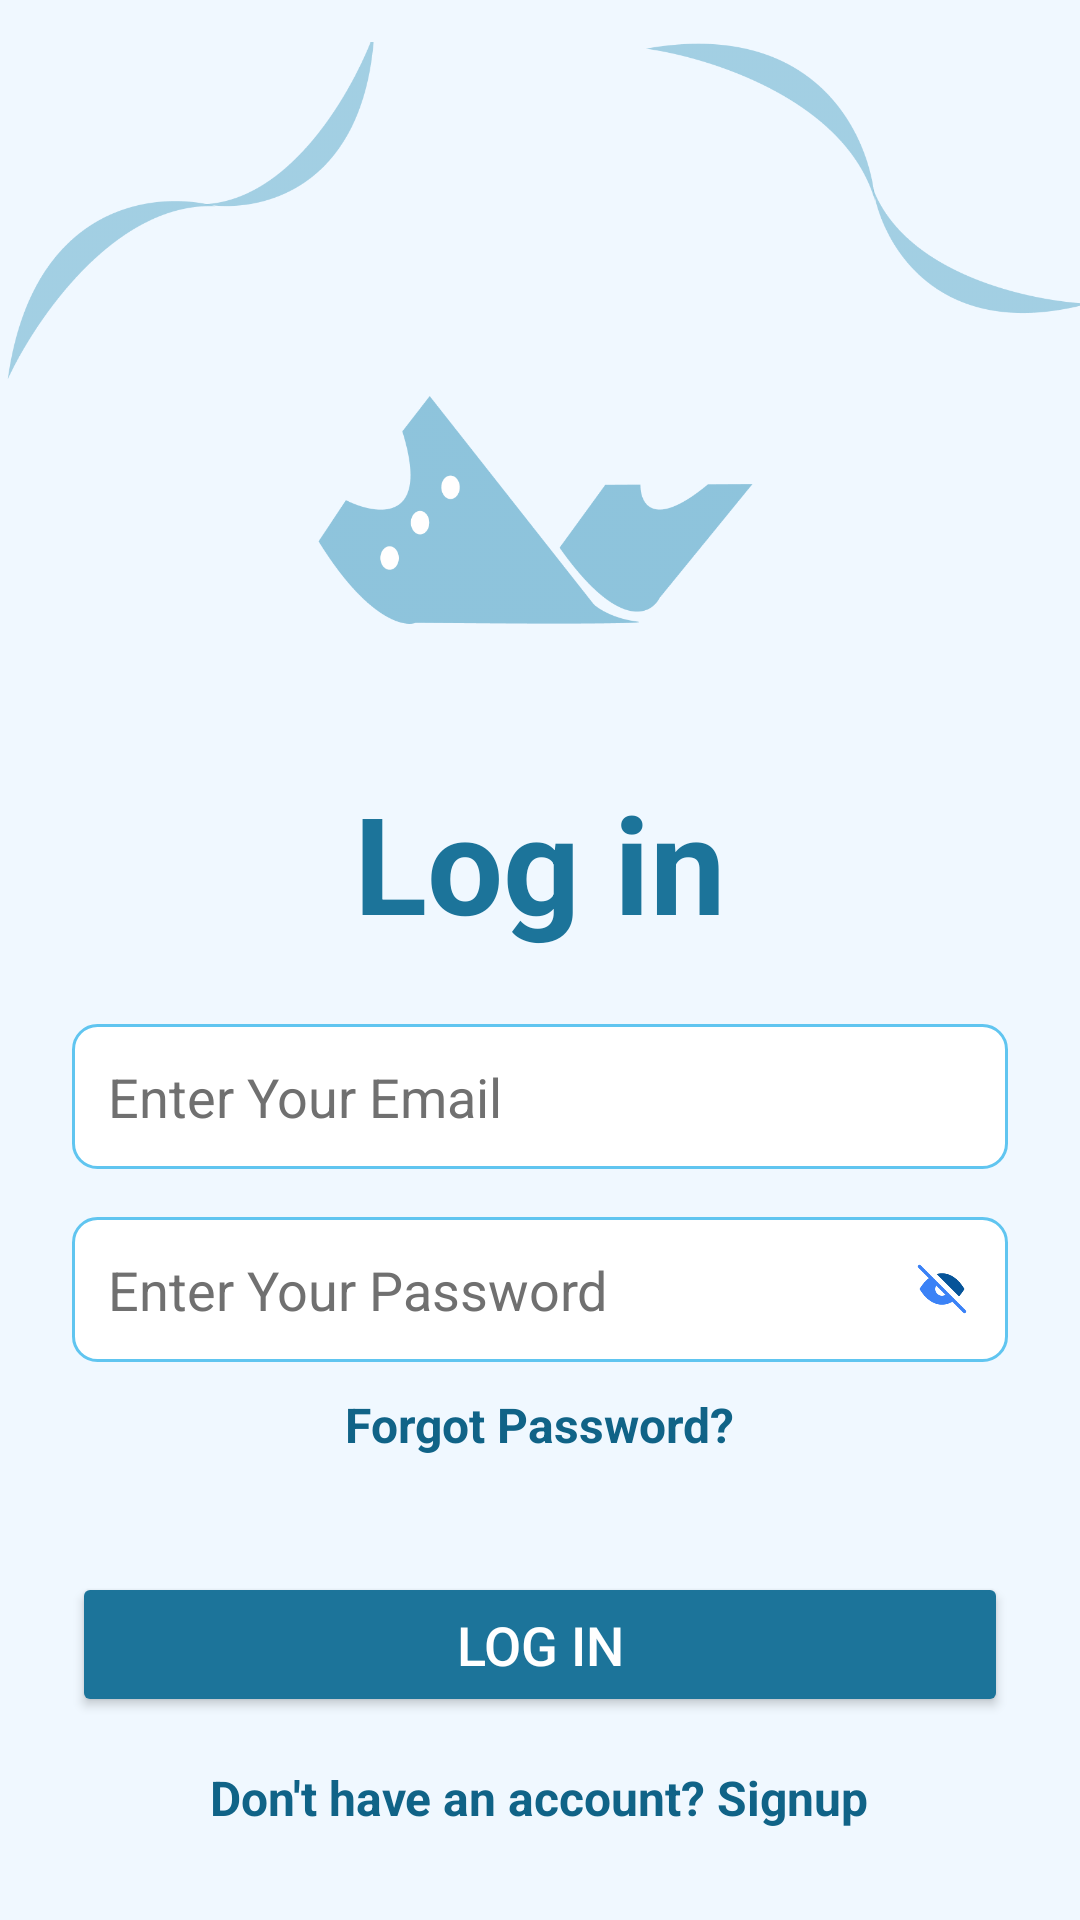

Icon click points for this 1080px×1920px phone screenshot, format (x=x, y=y):
visibility off: (x=941, y=1289)
